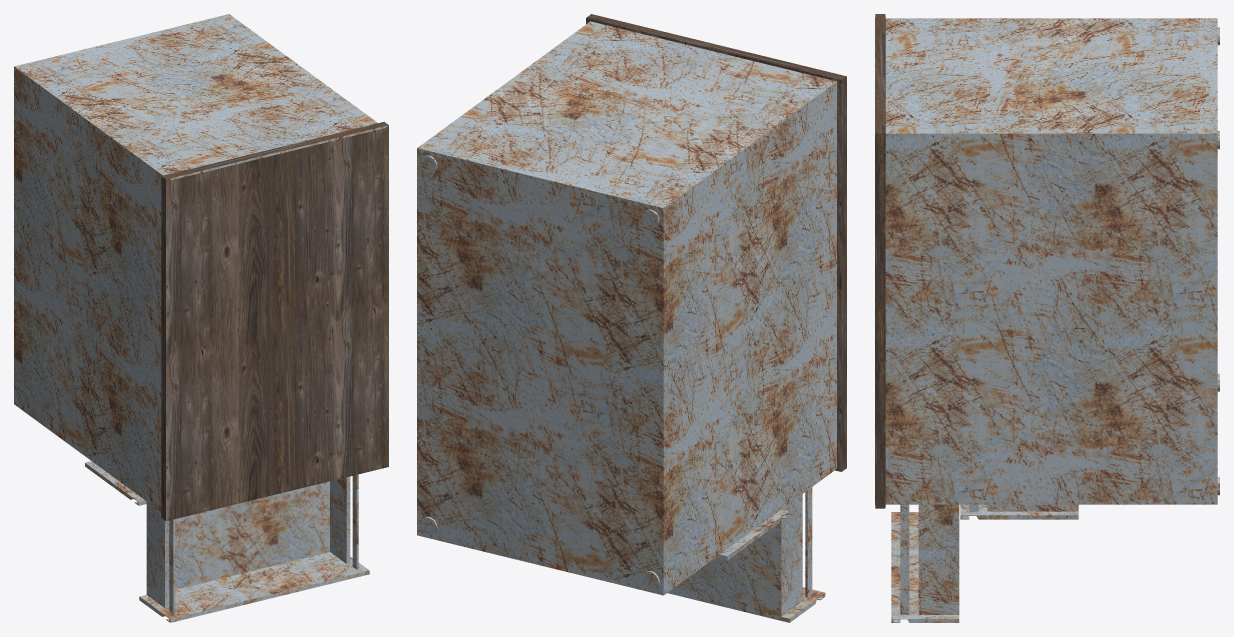
The model's file is prop_cabinet.glb.
3 renders of one model, left to right at view 1: azimuth 30°, elevation 25°; view 2: azimuth 150°, elevation 25°; view 3: azimuth 270°, elevation 25°, orthographic. The views are drawn at different scales.
Visible parts, largest first — view 1: SketchUp.002_0; view 2: SketchUp.002_0; view 3: SketchUp.002_0.
Boxes of the visible parts, left/top/right/bottom form: SketchUp.002_0: left=14, top=14, right=388, bottom=622; SketchUp.002_0: left=417, top=14, right=846, bottom=622; SketchUp.002_0: left=875, top=14, right=1219, bottom=622.
Size of the model in its own units: 0.6817 by 1.32 by 0.8315.
2 materials, 2 textured.
